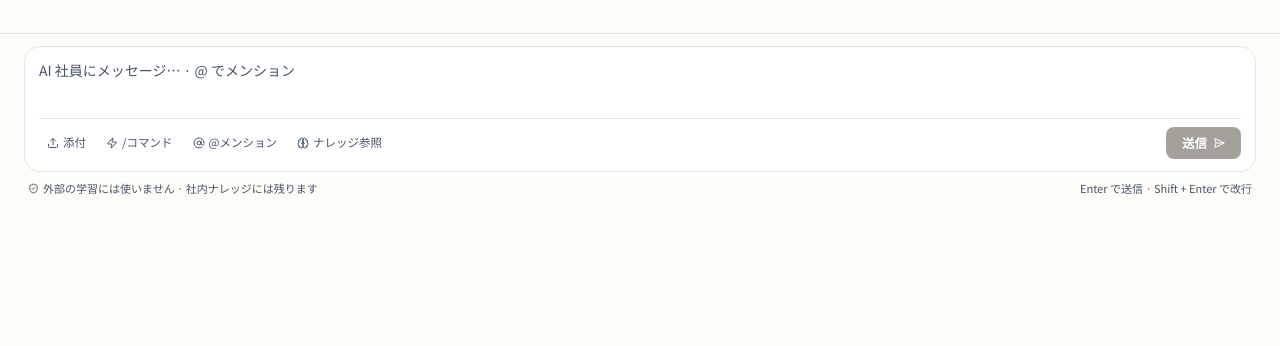
GAP-189 中断 › 実行 ID が届くまで停止ボタンは出ない（死にボタンを置かない）
Step 1. Type "やあ" into the text box named "メッセージを入力" → {"x": 640, "y": 82}, box [39,59,1241,104]
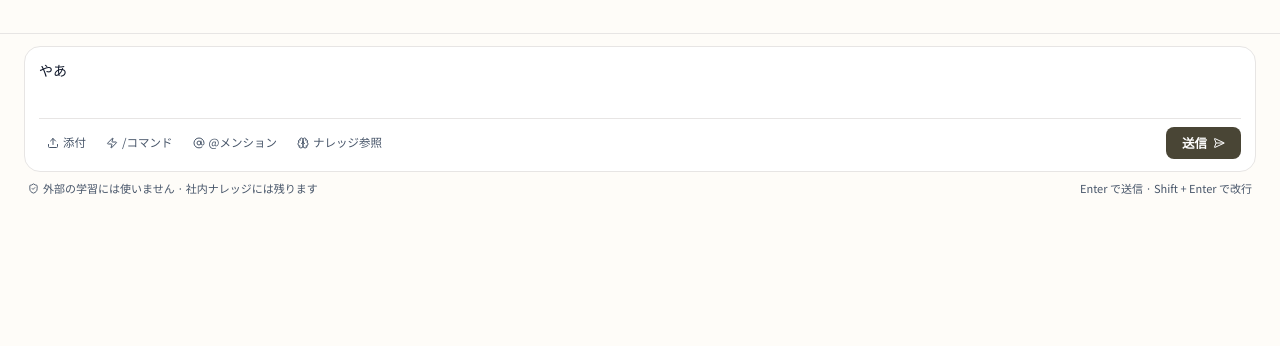
Step 2. Click the button "送信" → {"x": 1204, "y": 143}, box [1166,126,1241,159]
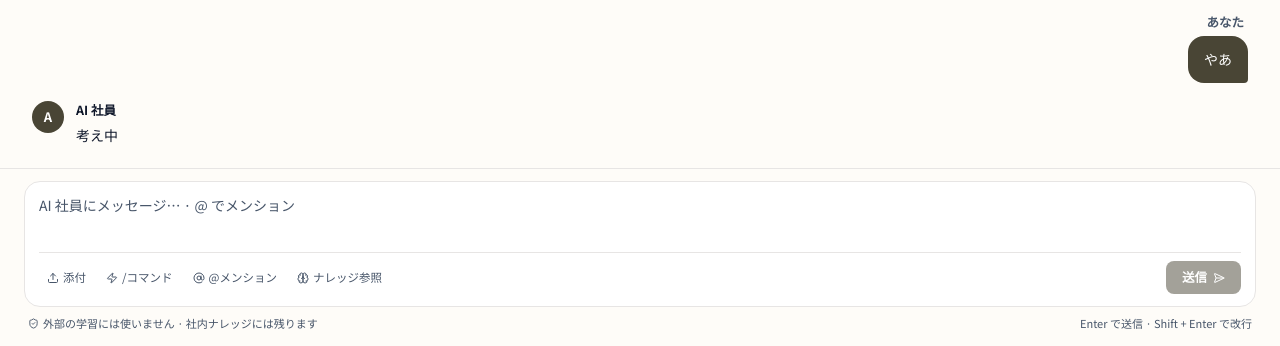
Now the text "考え中" is shown, box [76,125,118,145]
